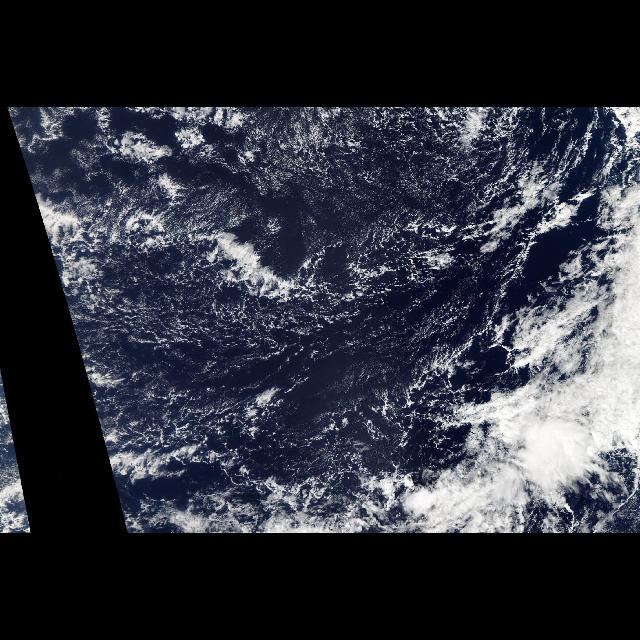Gravel: (98, 180, 488, 428), (165, 117, 583, 169)
